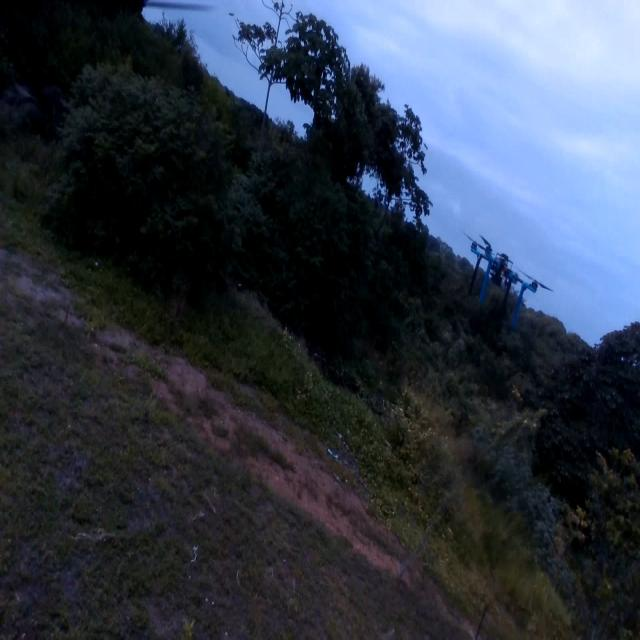-uav-: (467, 215, 551, 339)
